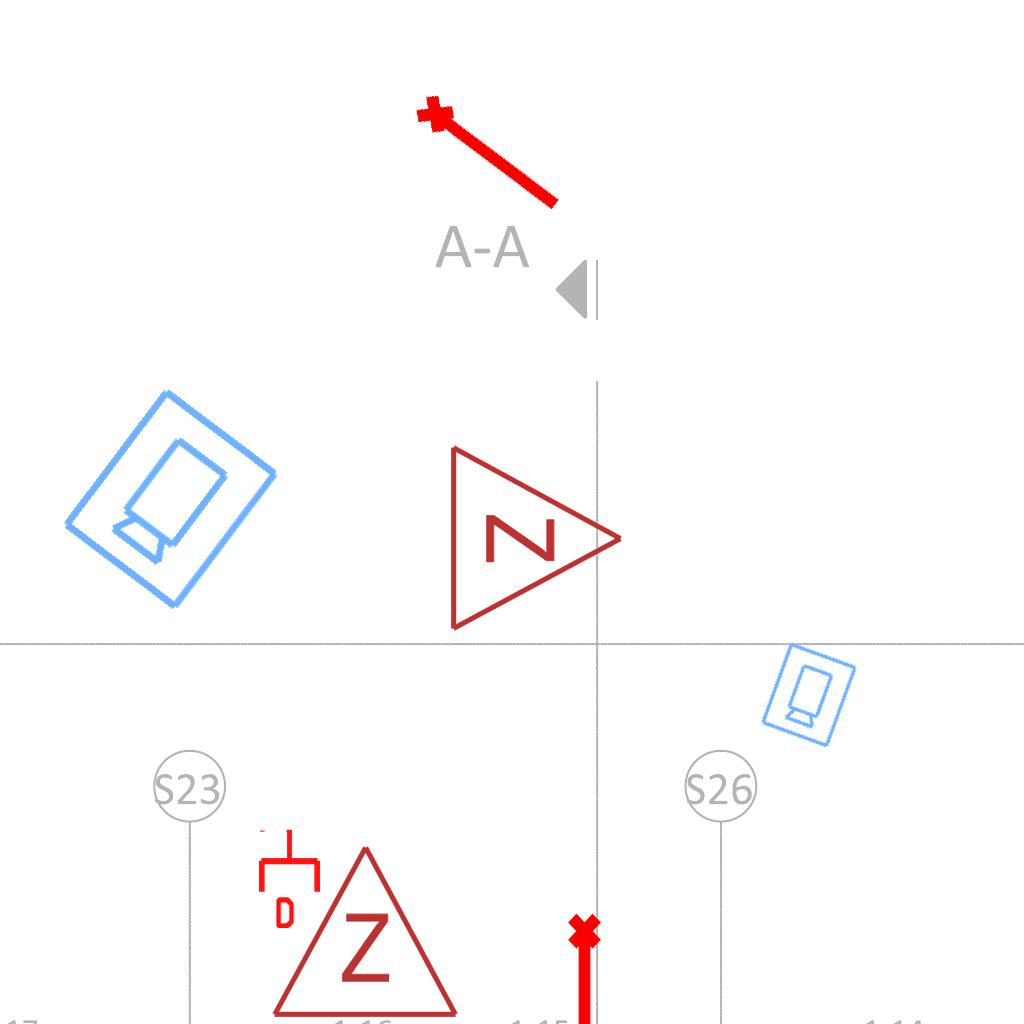ASR_Ansaugoeffnung: (406, 81, 576, 225), (564, 911, 610, 1024)
Datenanschluss_einfach: (255, 828, 324, 928)
KFO_Kamera_mit_Festobjektiv: (53, 378, 287, 618), (756, 638, 861, 751)
Zimmersignalleuchte: (436, 438, 636, 634), (265, 832, 461, 1024)
